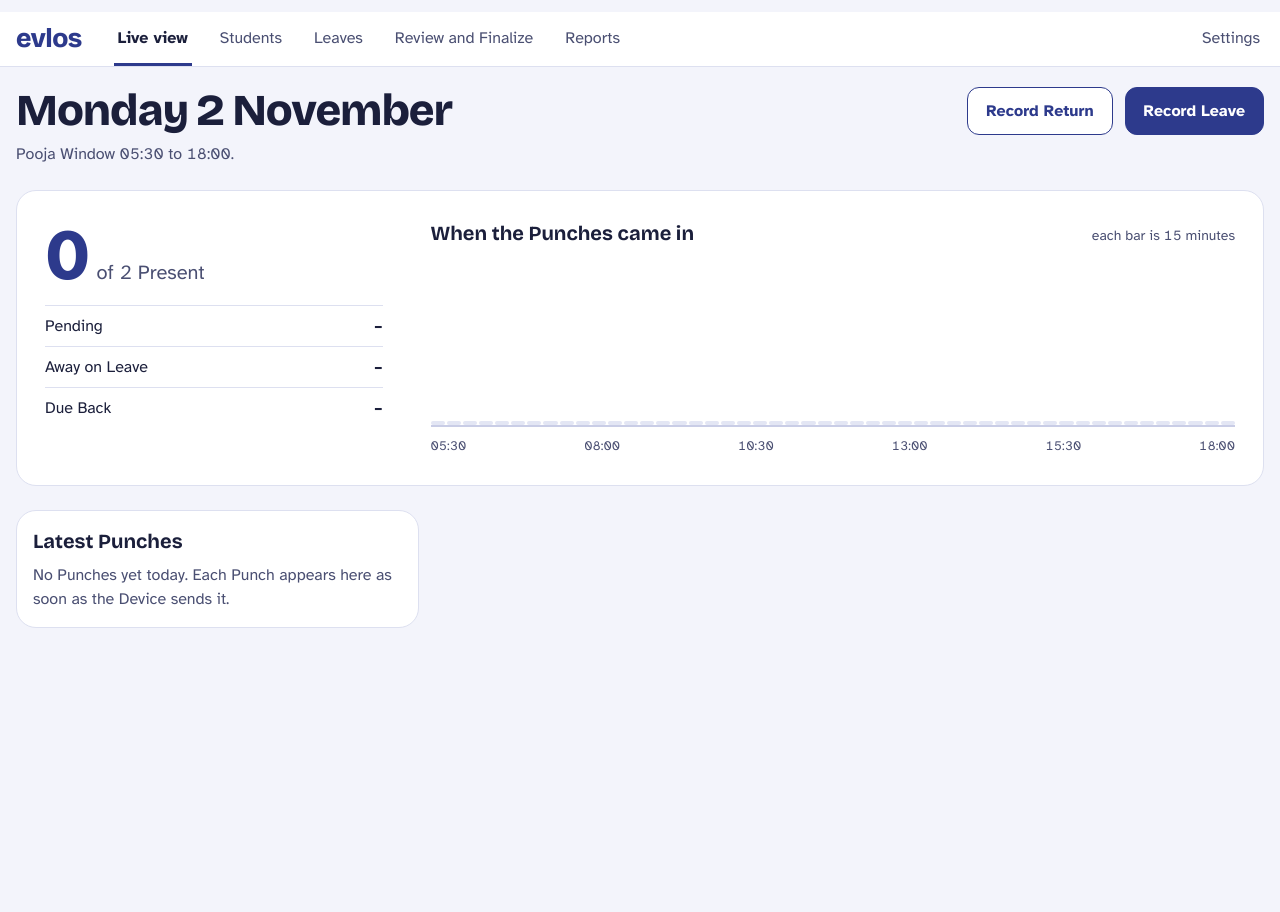
Test: menu › opens the Leaves page
Expected: the text "No Punches yet" is shown, [33,564,392,608]
Click the button "Leaves" at (338, 39), box [310,12,367,66]
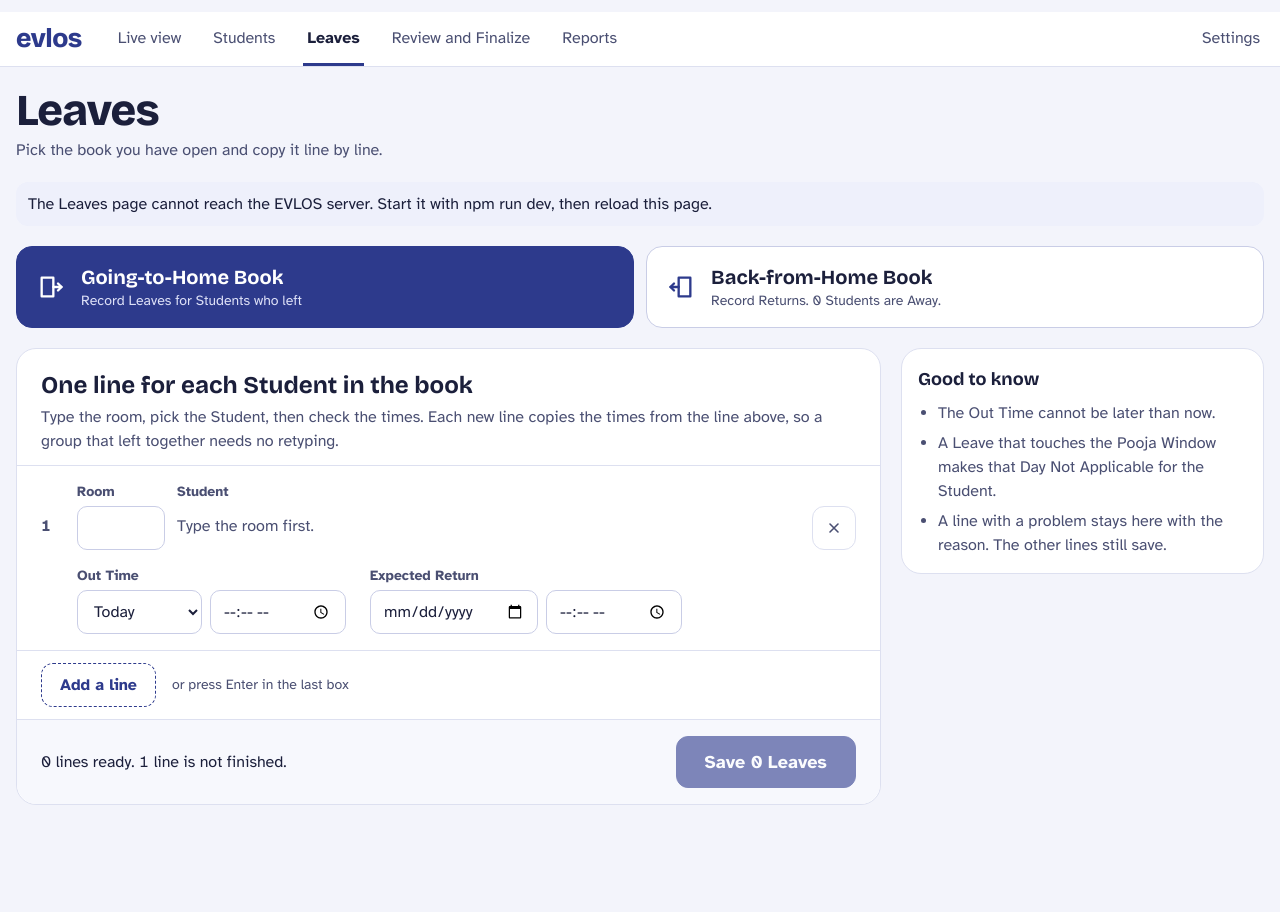
Now the heading "Leaves" is shown, box [16,84,159,137]
